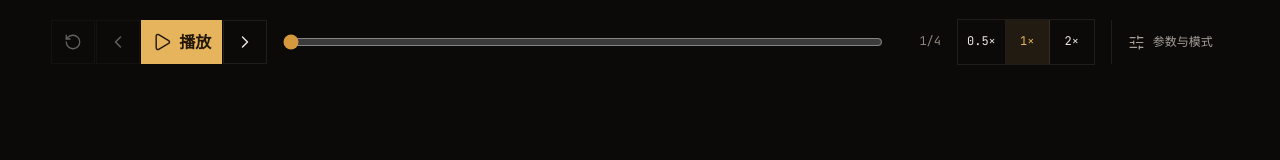
InstrumentRail keeps transport order and expands secondary controls in place
The width and height of the screenshot is (1280, 160).
Check: the slider named "进度" is shown, box x1=283 y1=34 x2=883 y2=50
Click the button "参数与模式".
click(1170, 42)  # box x1=1111 y1=20 x2=1229 y2=64
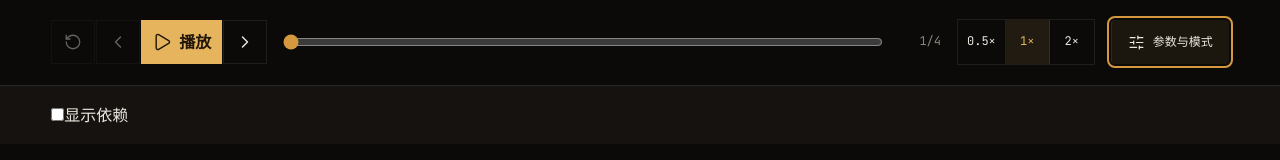
Check: the button "参数与模式" is expanded, box x1=1111 y1=20 x2=1229 y2=64
Check: the checkbox labelled "显示依赖" is shown, box x1=51 y1=108 x2=64 y2=121
